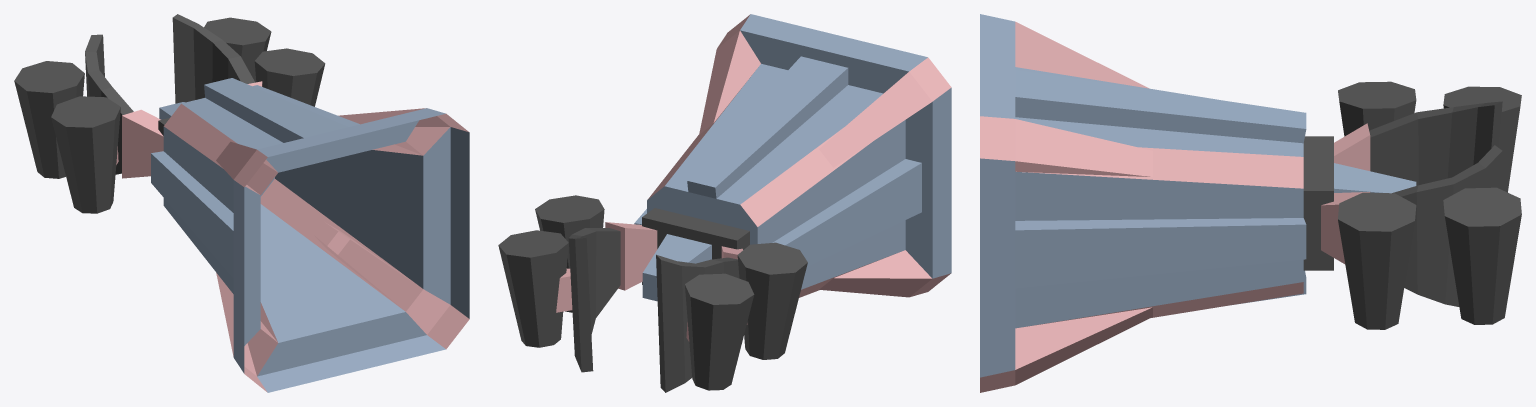
The model's file is TorreLongoAVC3.fbx.
3 views of the same model, side by side, from view 1: azimuth 30°, elevation 25°; view 2: azimuth 150°, elevation 25°; view 3: azimuth 270°, elevation 25° (orthographic). The views are drawn at different scales.
Visible parts, largest first — view 1: Torre; view 2: Torre; view 3: Torre.
Boxes of the visible parts, x1,y1,x2,y2 form: Torre: (14,14,469,392); Torre: (498,14,951,392); Torre: (980,14,1521,392).
Size of the model in its own units: 3.77 by 3.24 by 5.76.
